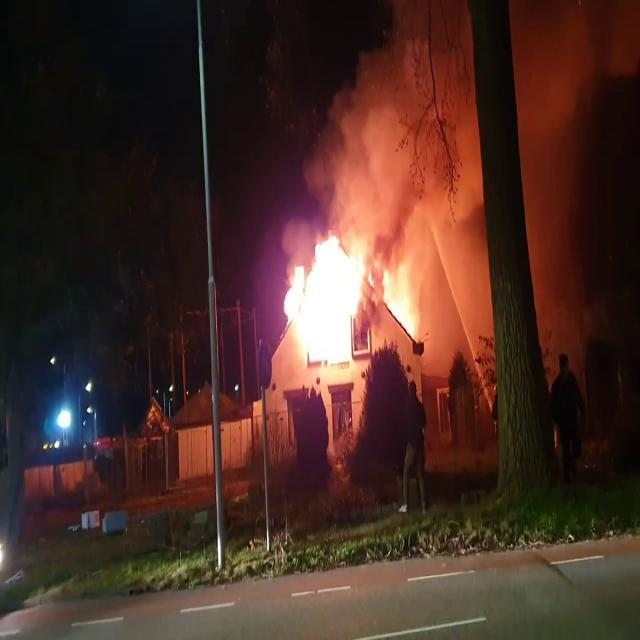Fire: (278, 214, 428, 380)
Smoke: (311, 1, 475, 228)
